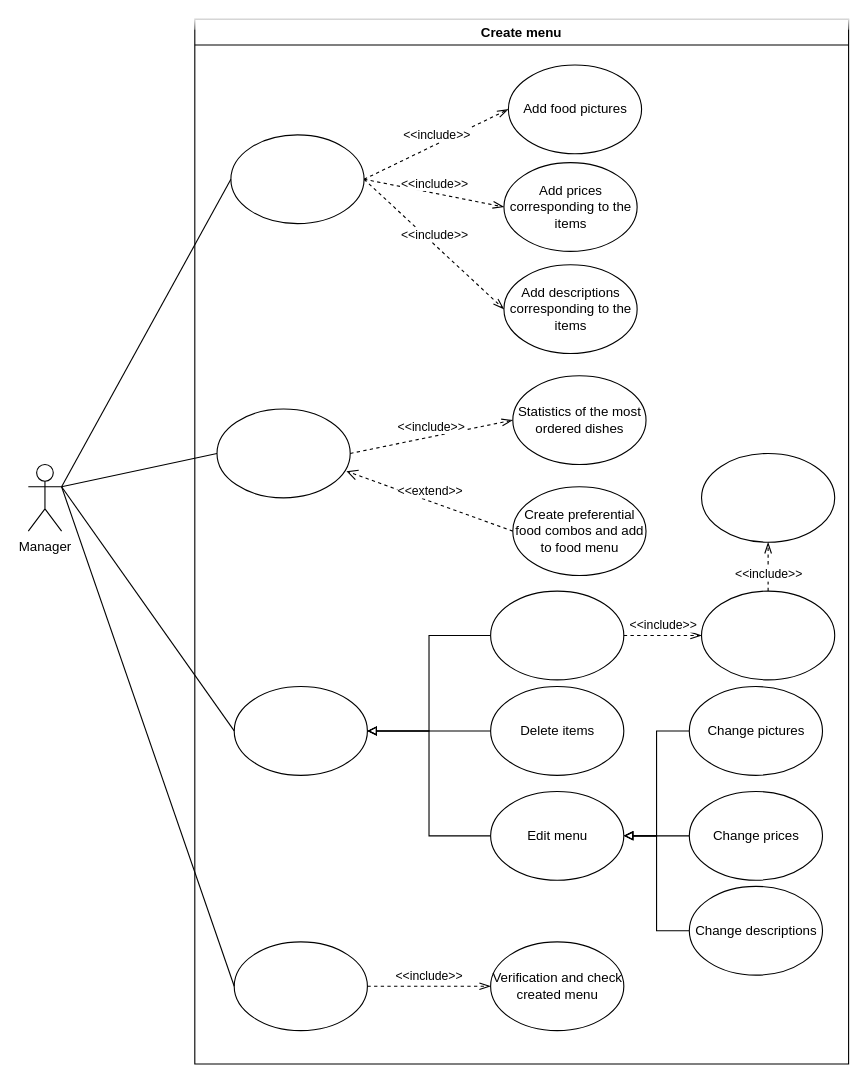
Some shapes in this 868 by 1083 pixel diagram are drawn without their labels. The shapes that lost their labels are listed below. From the top down, each one's centre as x and y in pixels, then its label:
At point (297, 179): "Add new items to food menu".
At point (283, 453): "Add popular items to offer for customer".
At point (767, 497): "Check the number of ingredients".
At point (557, 635): "Update quantity, available food".
At point (767, 635): "Check the number of available items".
At point (300, 730): "Change menu".
At point (300, 986): "Comfirm and send menu to database".
